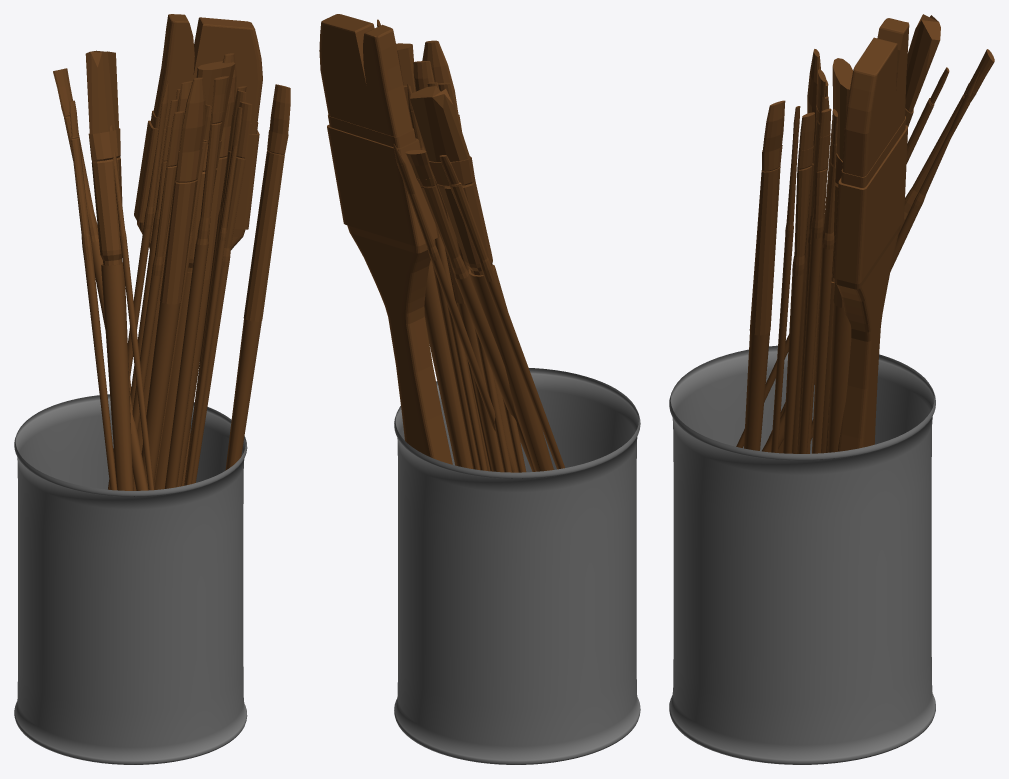
The model's file is PaintJar.dae.
The picture shows the model from 3 angles, left to right: view 1: azimuth 30°, elevation 25°; view 2: azimuth 150°, elevation 25°; view 3: azimuth 270°, elevation 25°; orthographic projection. The views are drawn at different scales.
Parts seen in each view (by area): view 1: PaintJar; view 2: PaintJar; view 3: PaintJar.
Boxes of the visible parts, left/top/right/bottom form: PaintJar: left=14, top=14, right=290, bottom=764; PaintJar: left=319, top=14, right=640, bottom=764; PaintJar: left=669, top=14, right=994, bottom=764.
Bounding box in the file's own units: 2.14 × 5.17 × 2.07.
